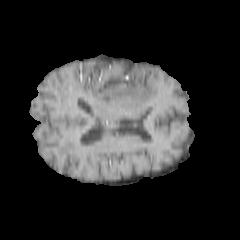glioma: (97, 73, 152, 102)
